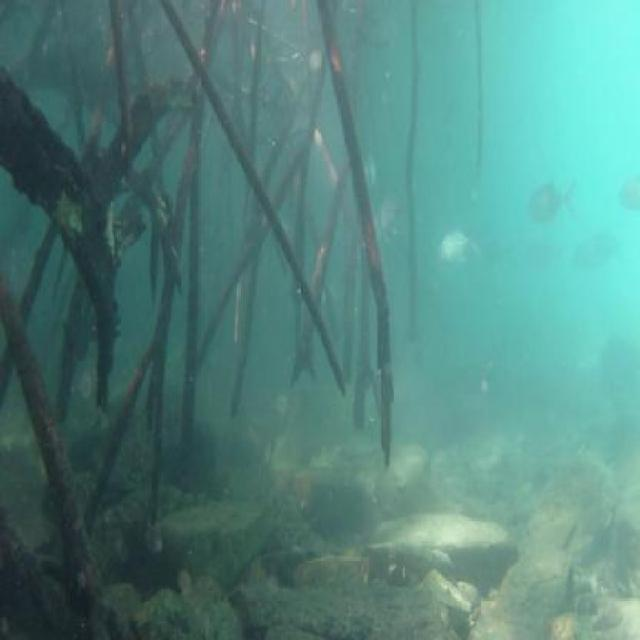Caranx_sexfasciatus_juvenile: (523, 177, 582, 232), (437, 222, 480, 276), (573, 232, 613, 283)
